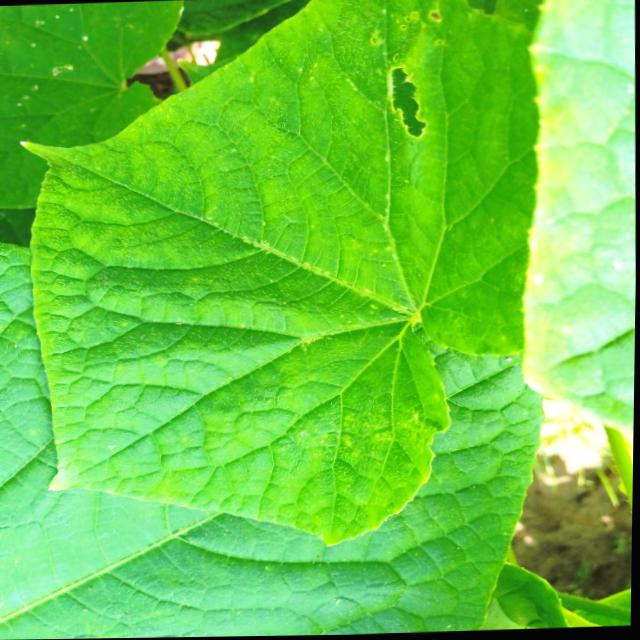Fresh-Leaf: (16, 0, 538, 552)
